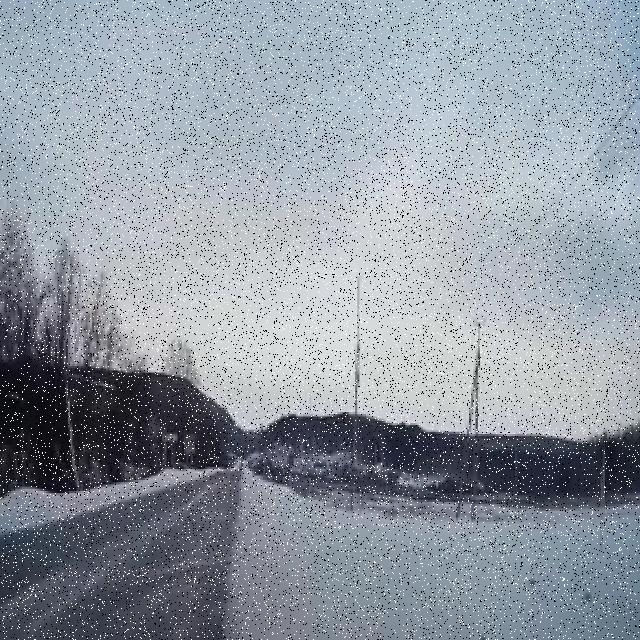ice-road: (0, 475, 239, 640)
